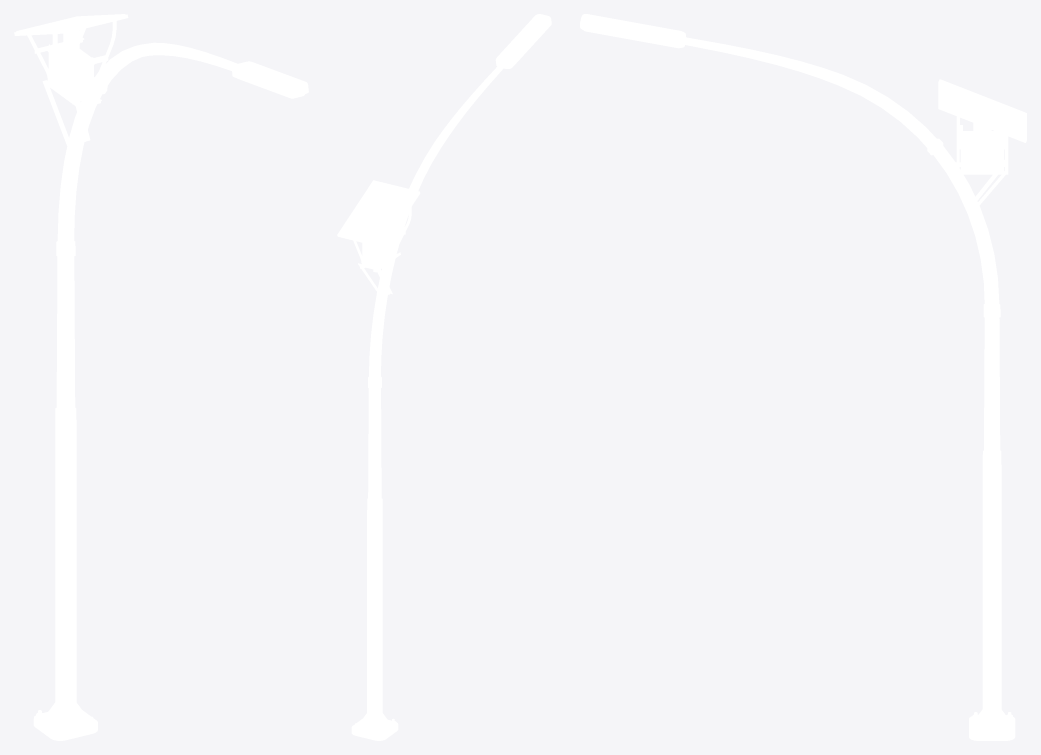
The model's file is lamp.glb.
3 views of the same model, side by side, from view 1: azimuth 30°, elevation 25°; view 2: azimuth 150°, elevation 25°; view 3: azimuth 270°, elevation 25° (orthographic). The views are drawn at different scales.
Visible parts, largest first — view 1: StreetLampSingle_Lamp_0; view 2: StreetLampSingle_Lamp_0; view 3: StreetLampSingle_Lamp_0.
Boxes of the visible parts, <box> form: StreetLampSingle_Lamp_0: <box>14,14,308,740</box>; StreetLampSingle_Lamp_0: <box>337,14,551,740</box>; StreetLampSingle_Lamp_0: <box>580,14,1026,740</box>.
Bounding box in the file's own units: 0.4521 × 5.5 × 3.12.
Materials: 1 (1 with a texture image).
